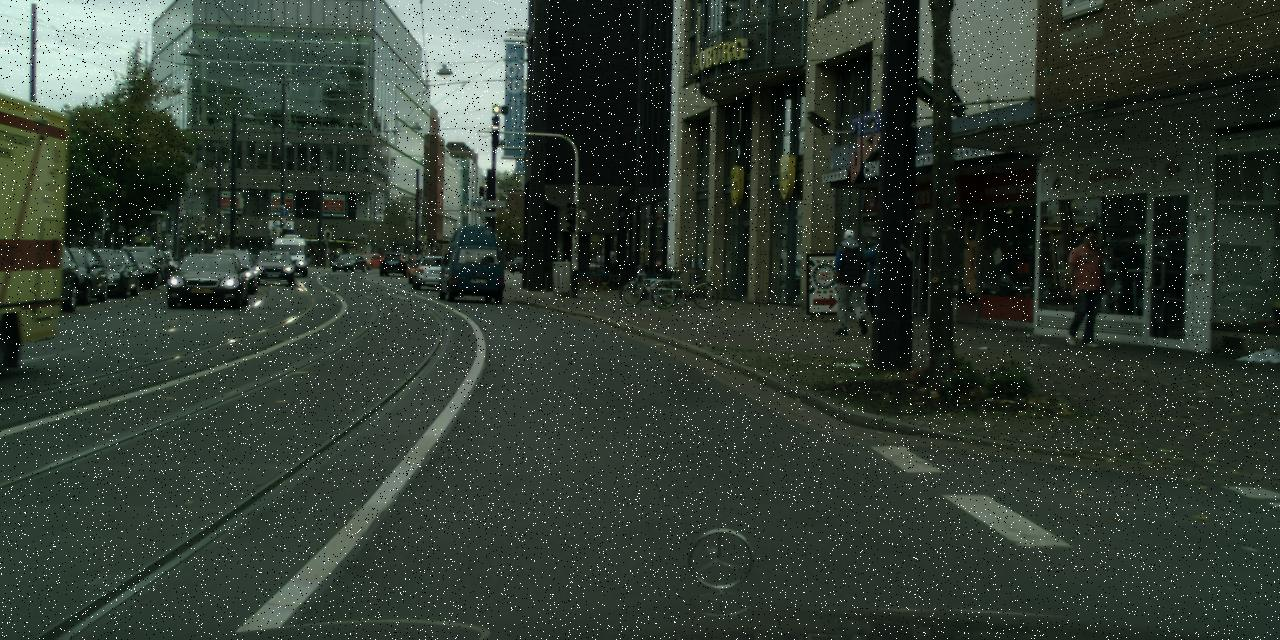ped: (1060, 227, 1109, 347), (830, 229, 873, 335), (864, 234, 905, 335)
